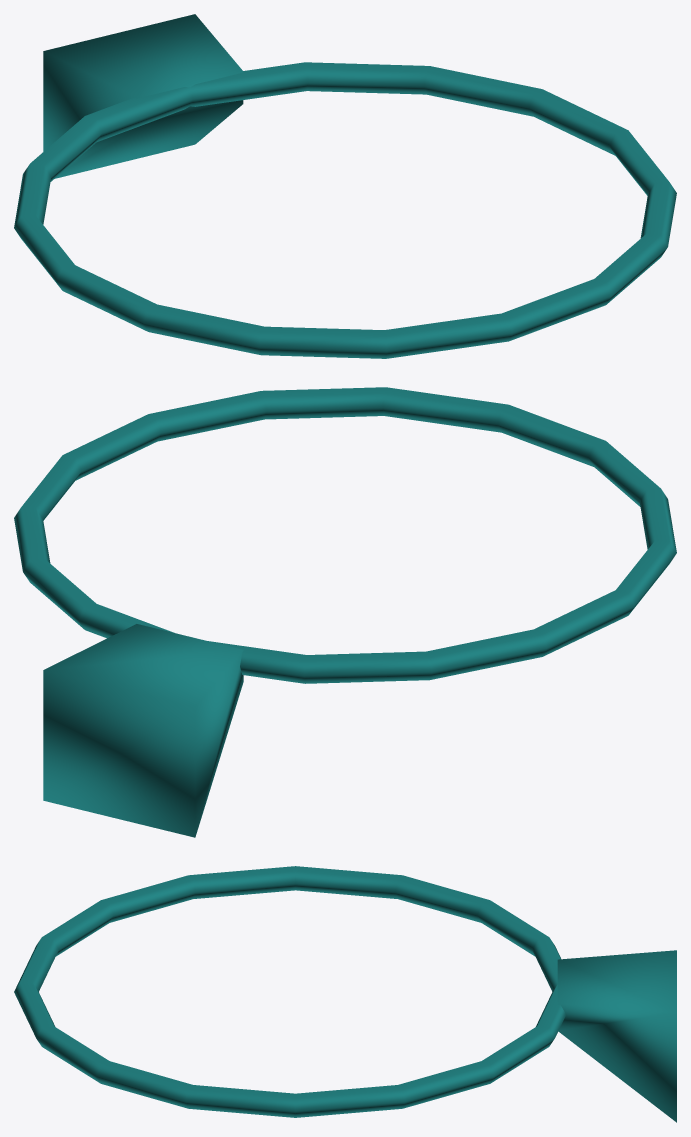
File: basketball_backboard_ring_collider.fbx
The picture shows the model from 3 angles, top to bottom: view 1: azimuth 30°, elevation 25°; view 2: azimuth 150°, elevation 25°; view 3: azimuth 270°, elevation 25°; orthographic projection. The views are drawn at different scales.
Visible parts, largest first — view 1: basketball_backboard_ring_collider; view 2: basketball_backboard_ring_collider; view 3: basketball_backboard_ring_collider.
Boxes of the visible parts, x1,y1,x2,y2 form: basketball_backboard_ring_collider: (14,14,676,358); basketball_backboard_ring_collider: (14,387,676,837); basketball_backboard_ring_collider: (14,866,676,1122).
Bounding box in the file's own units: 53.23 × 11.48 × 62.67.
